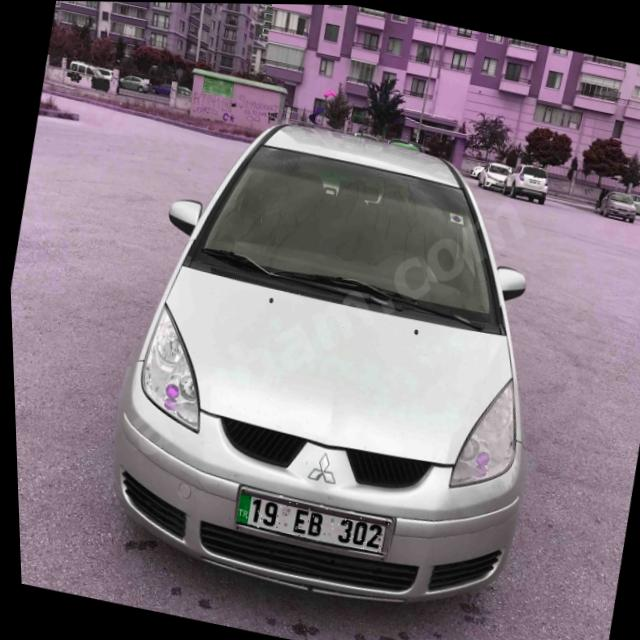license_plate: (231, 490, 387, 554)
